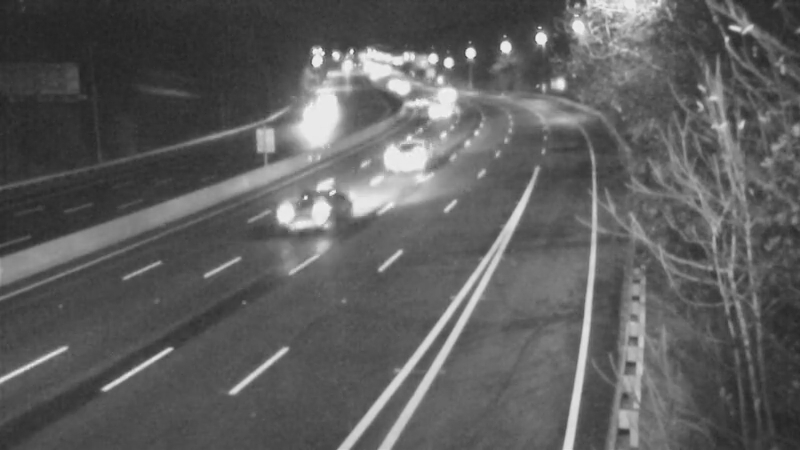vehicle: (371, 112, 451, 192), (270, 175, 350, 255), (381, 59, 431, 109), (423, 67, 473, 117), (395, 77, 445, 127), (410, 90, 460, 140), (290, 93, 340, 143)
